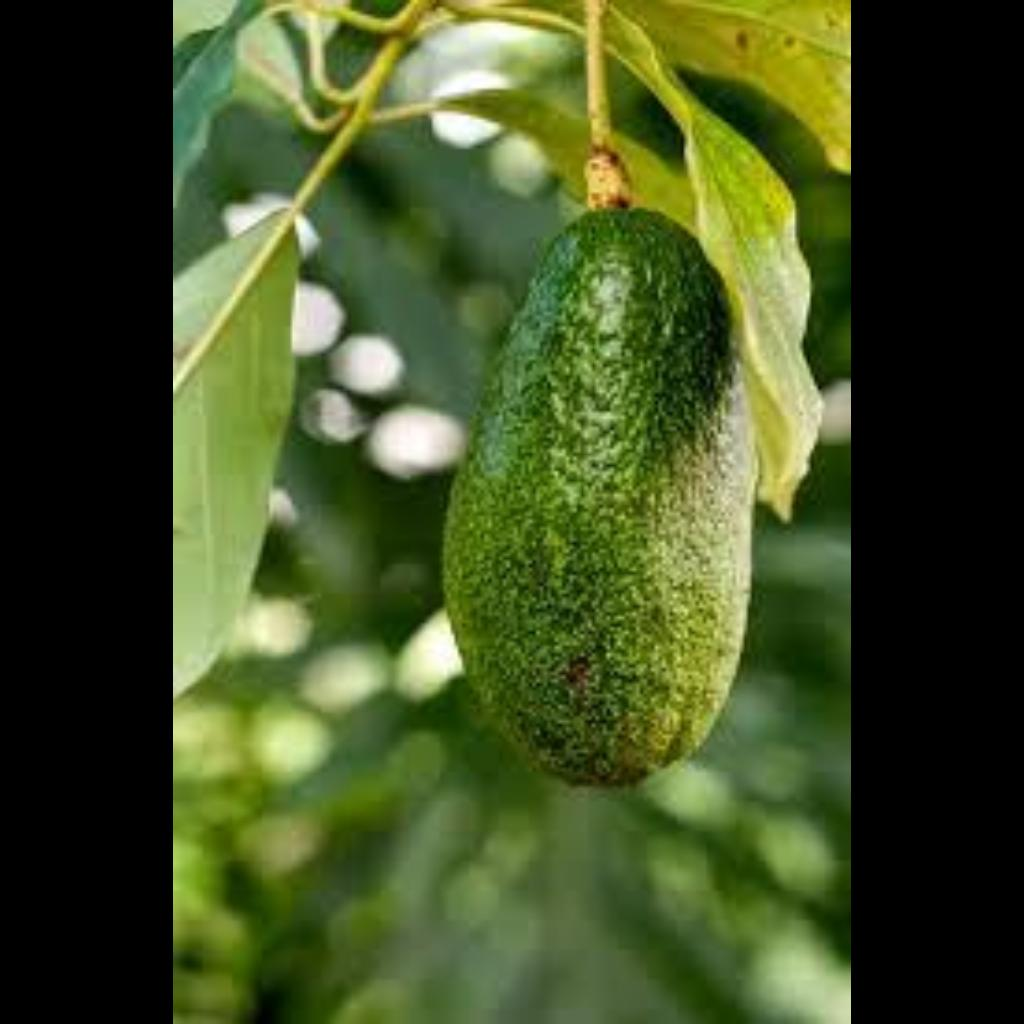antracnosis_fruto: (495, 274, 732, 790)
